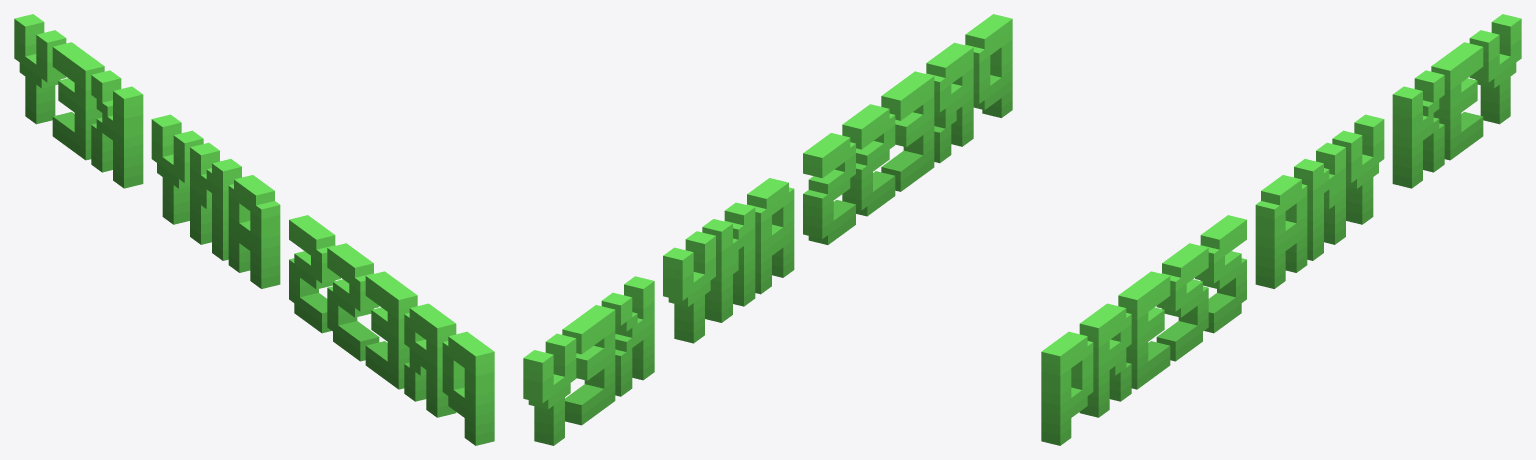
File: mainscreen_press_any.obj
3 renders of one model, left to right at view 1: azimuth 30°, elevation 25°; view 2: azimuth 150°, elevation 25°; view 3: azimuth 330°, elevation 25°, orthographic.
Size of the model in its own units: 2 by 9 by 84.
1 material, 1 textured.
